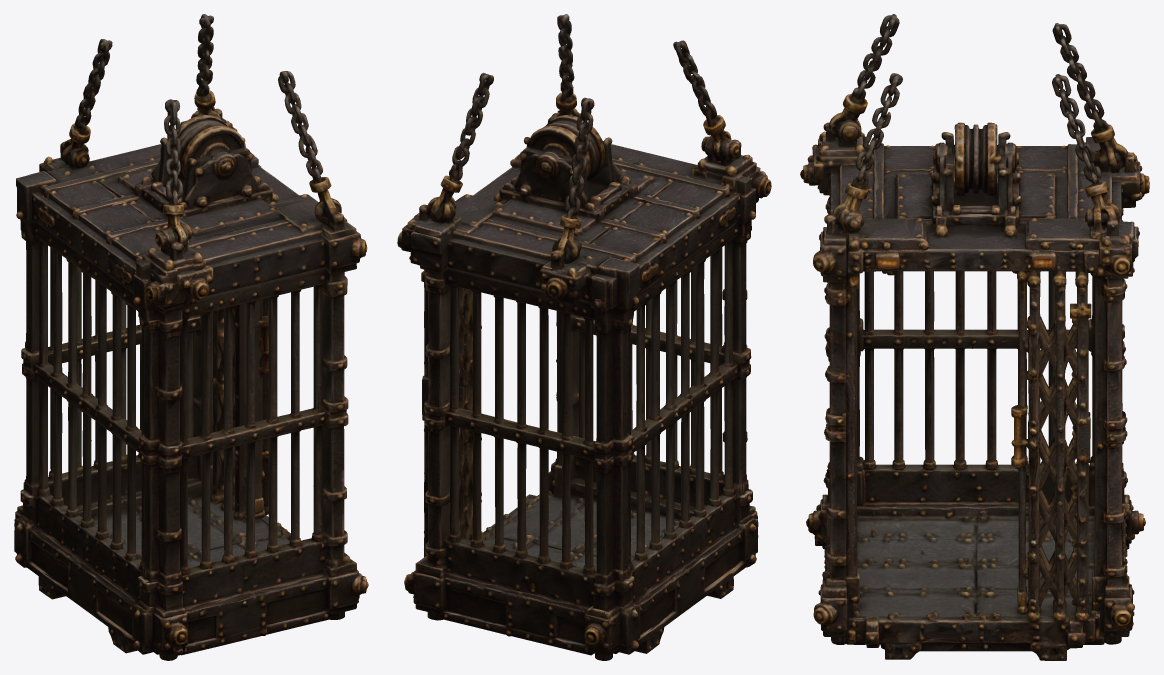
File: raw_liftcage.glb
3 views of the same model, side by side, from view 1: azimuth 30°, elevation 25°; view 2: azimuth 150°, elevation 25°; view 3: azimuth 270°, elevation 25° (orthographic). The views are drawn at different scales.
Parts seen in each view (by area): view 1: liftcage; view 2: liftcage; view 3: liftcage.
Part boxes in pixels (x1,y1,x2,y2): liftcage: [14, 14, 368, 660]; liftcage: [397, 14, 771, 660]; liftcage: [800, 14, 1149, 660].
Size of the model in its own units: 0.4447 by 0.9999 by 0.5631.
Materials: 1 (1 with a texture image).
